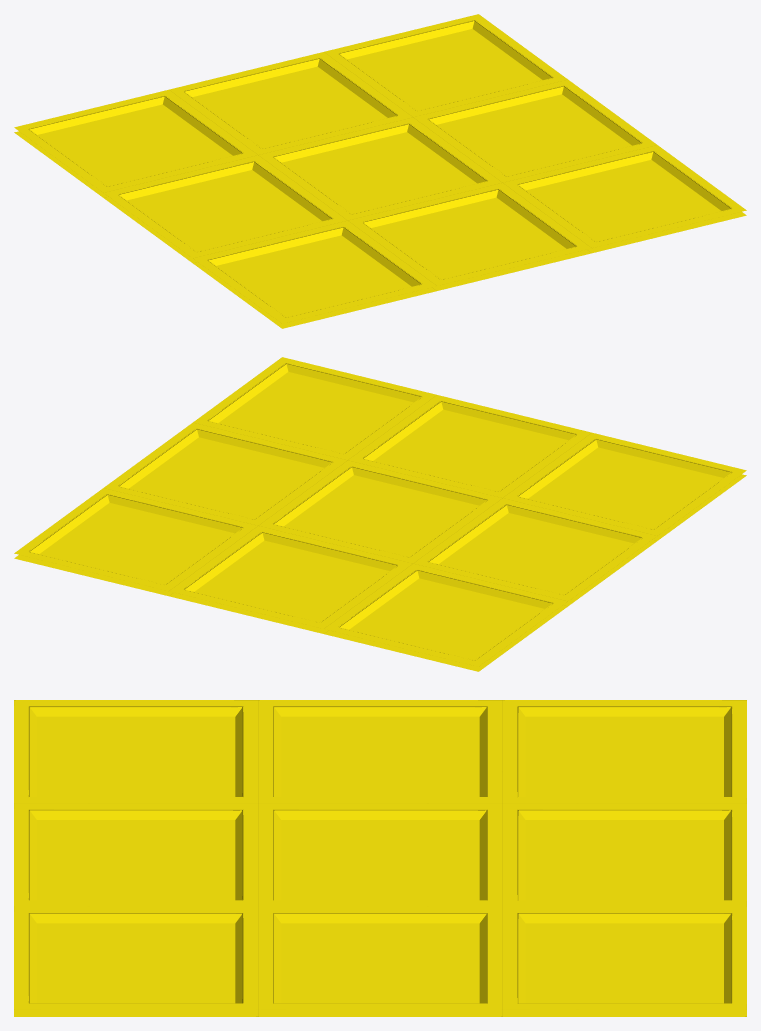
The model's file is Floor_2.fbx.
3 views of the same model, one above another, from view 1: azimuth 30°, elevation 25°; view 2: azimuth 150°, elevation 25°; view 3: azimuth 270°, elevation 25° (orthographic). The views are drawn at different scales.
Parts seen in each view (by area): view 1: Floor_2 Grate; view 2: Floor_2 Grate; view 3: Floor_2 Grate.
Part boxes in pixels (x1=…): Floor_2 Grate: x1=14, y1=14, x2=746, y2=328; Floor_2 Grate: x1=14, y1=357, x2=746, y2=671; Floor_2 Grate: x1=14, y1=700, x2=746, y2=1016.
Bounding box in the file's own units: 300 × 6.25 × 300.
